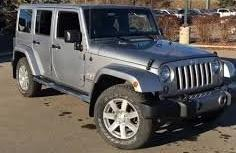SUV: (14, 7, 235, 149)
